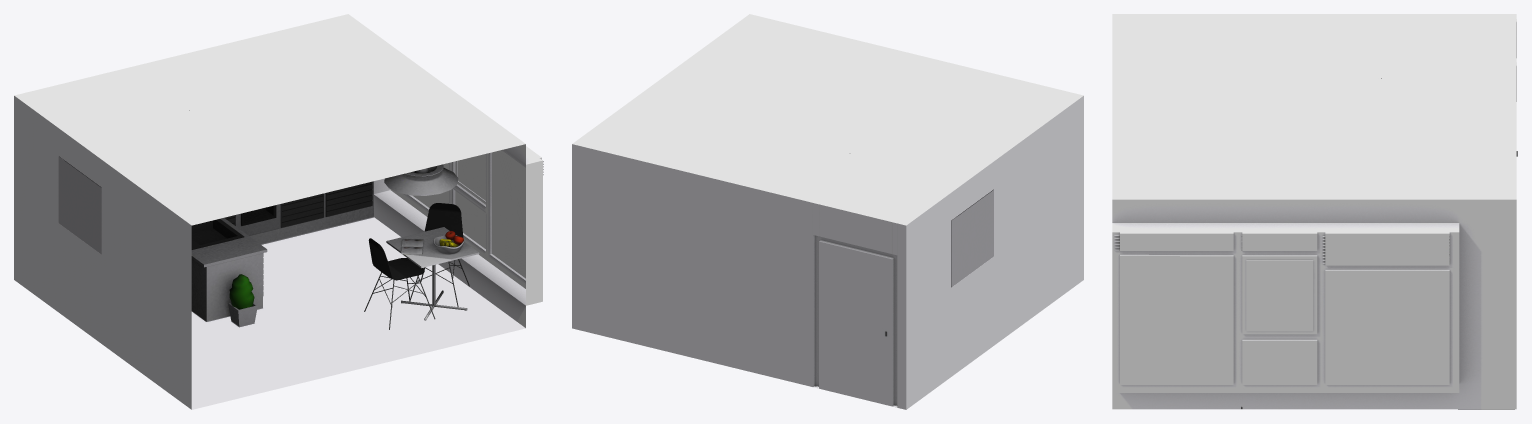
File: Dinning_kitchen room.fbx
3 views of the same model, side by side, from view 1: azimuth 30°, elevation 25°; view 2: azimuth 150°, elevation 25°; view 3: azimuth 270°, elevation 25° (orthographic). The views are drawn at different scales.
Visible parts, largest first — view 1: Object002, Object001; view 2: Object002, Object001; view 3: Object002, Object001.
Boxes of the visible parts, x1,y1,x2,y2 form: Object002: (14, 14, 542, 409); Object001: (58, 110, 543, 329); Object002: (572, 14, 1083, 409); Object001: (885, 190, 993, 336); Object002: (1112, 14, 1516, 409); Object001: (1114, 78, 1517, 409).
Size of the model in its own units: 242 by 121 by 210.
